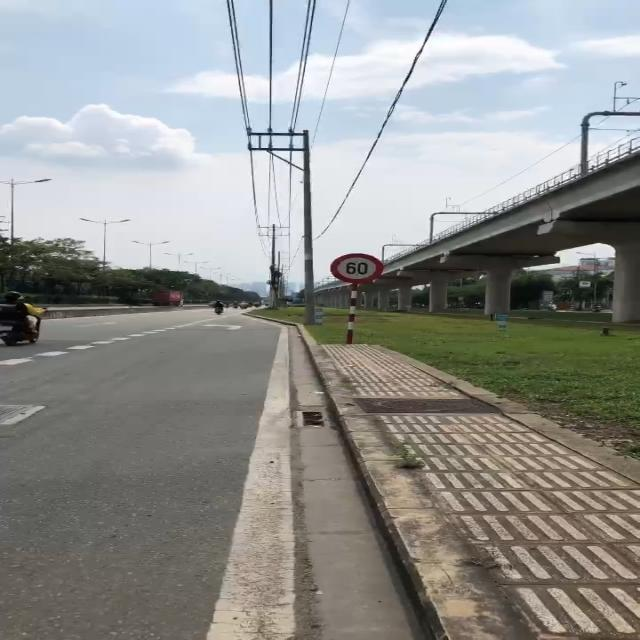Bien bao toc do toi da cho phep: (324, 252, 389, 283)
